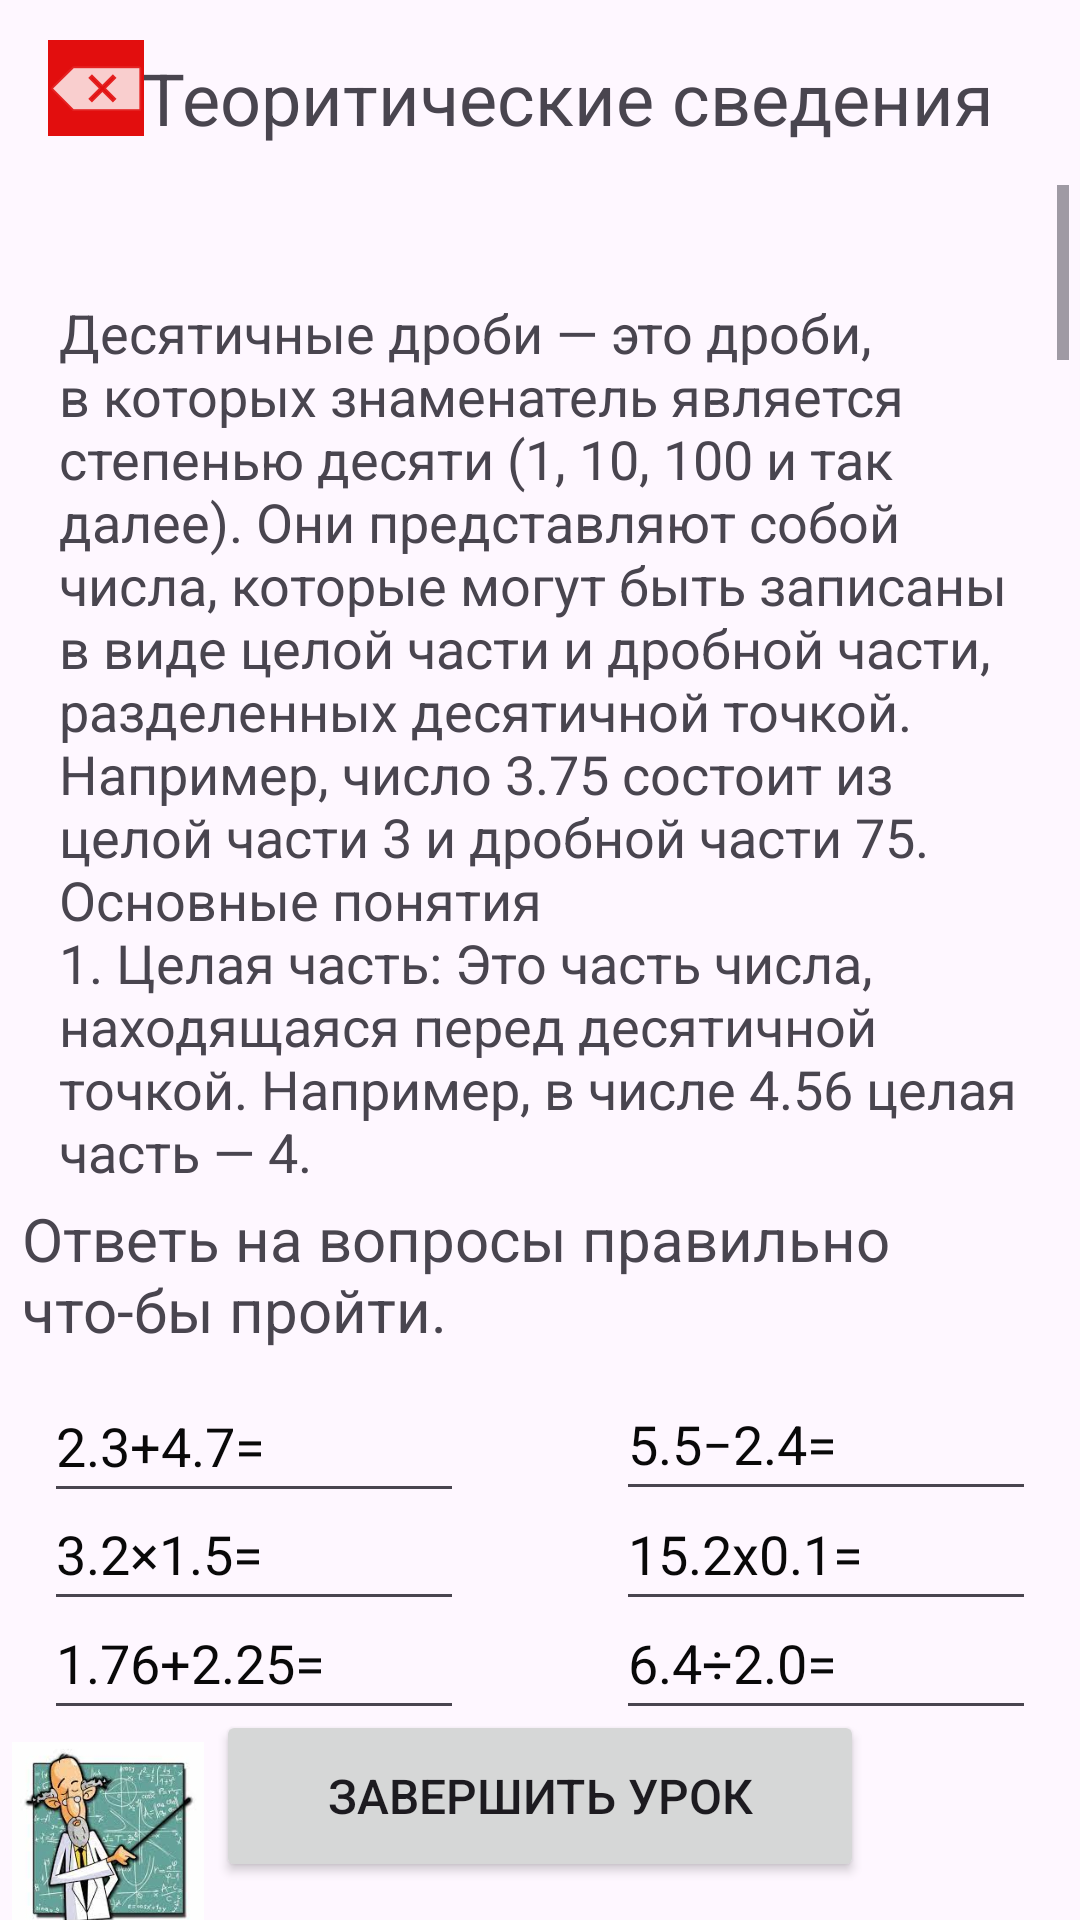

Screen size 1080px x 1920px. Icon name, then its box in pixels as box=[x1, y1, x2, y2]:
delete: box=[48, 40, 144, 136]
